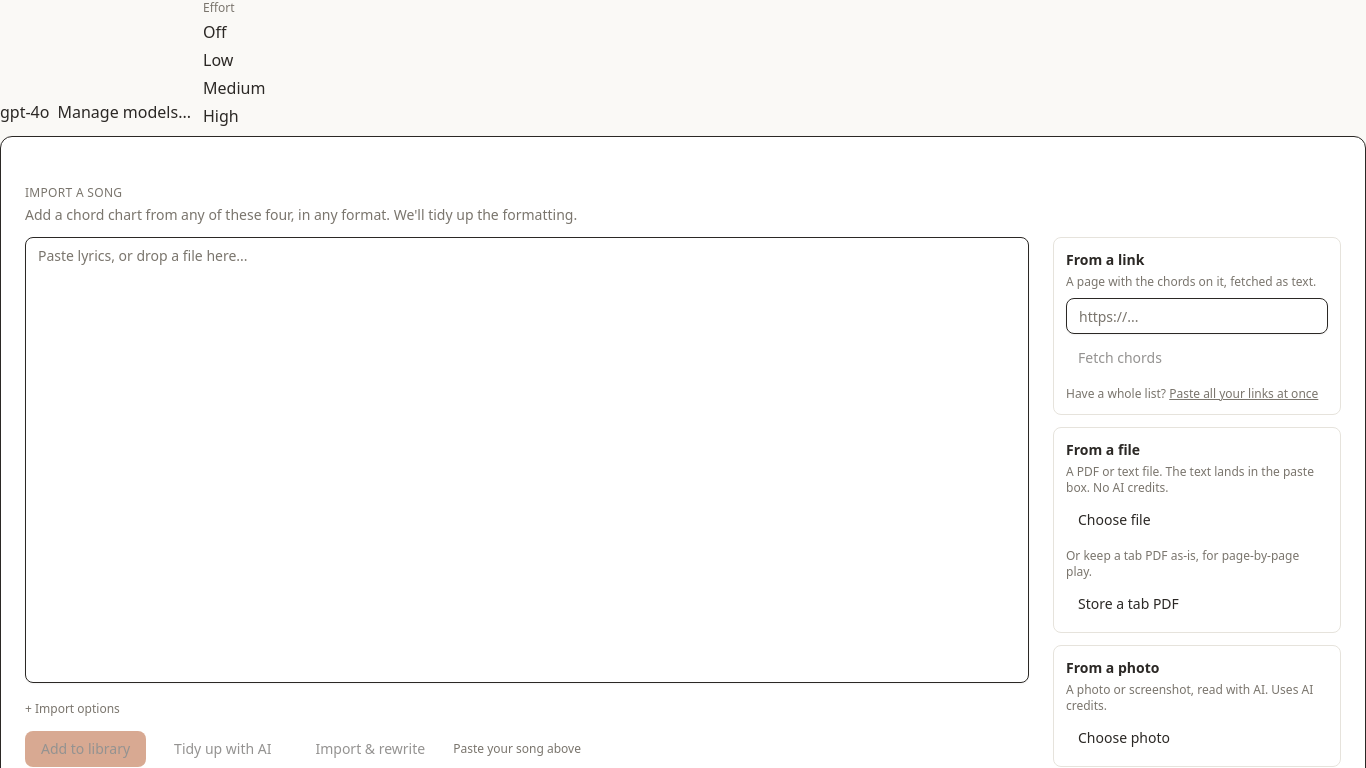
Test: desktop import layout › opens the bulk importer from the rail
The image size is (1366, 768).
What coordinates should you click on to do the following:
click the button "Paste all your links at once"
I would click on:
 (1244, 394)
Its box is [1169, 386, 1318, 402].
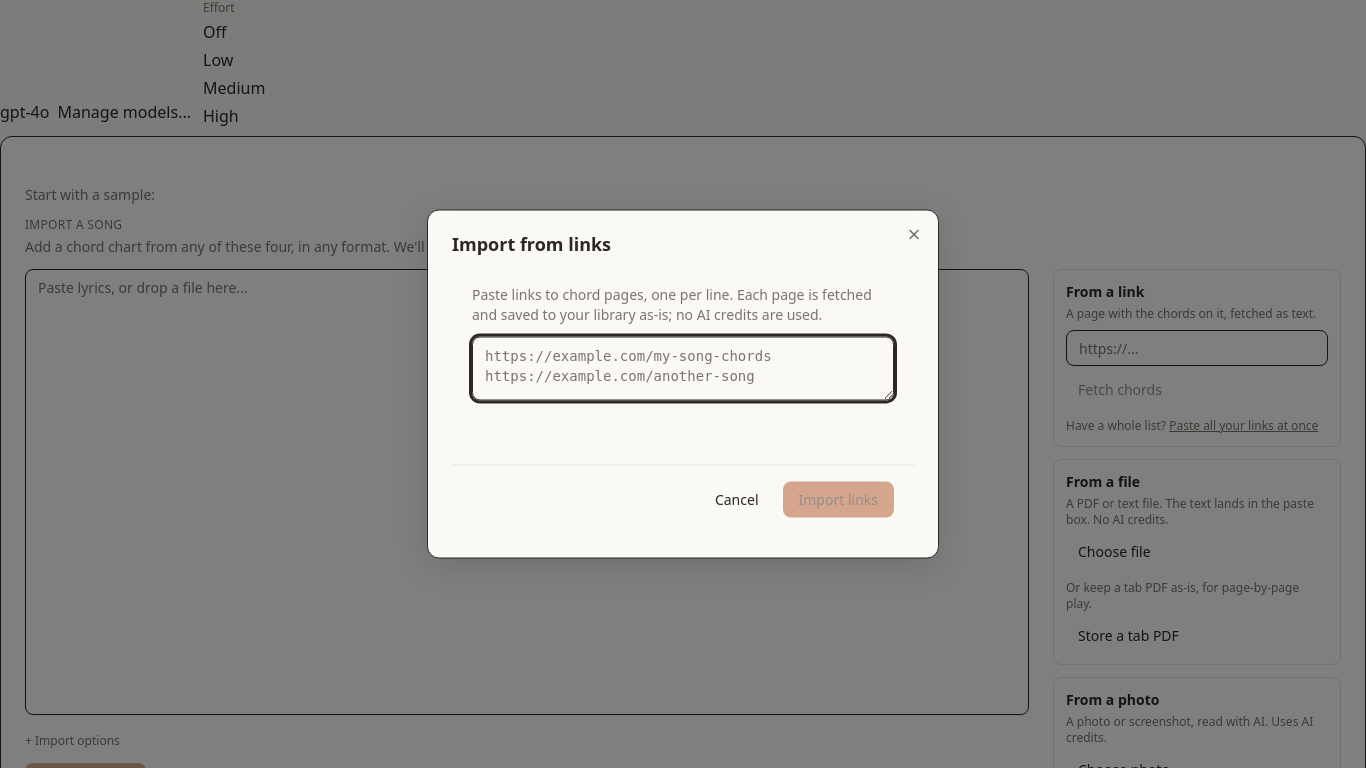
Expected: the heading "Import from links" is shown, [452, 232, 611, 256]
